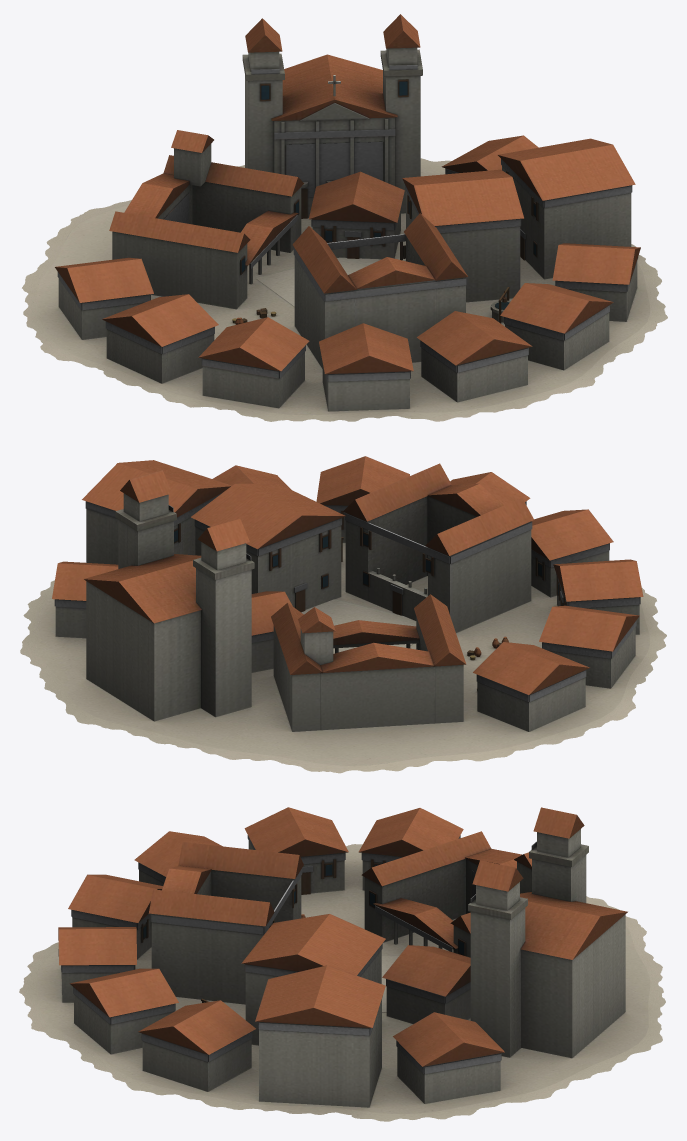
The model's file is gunpowder-town-medium-b-americas.glb.
The picture shows the model from 3 angles, top to bottom: view 1: azimuth 30°, elevation 25°; view 2: azimuth 150°, elevation 25°; view 3: azimuth 270°, elevation 25°; orthographic projection.
Visible parts, largest first — view 1: LOD0; view 2: LOD0; view 3: LOD0.
Boxes of the visible parts, box(x1,y1,x2,y2) form: LOD0: box(22, 14, 667, 421); LOD0: box(20, 456, 666, 773); LOD0: box(19, 807, 665, 1121).
Size of what is drawn, in the model's own units: 6.04 by 1.84 by 5.91.
Materials: 3 (3 with a texture image).
